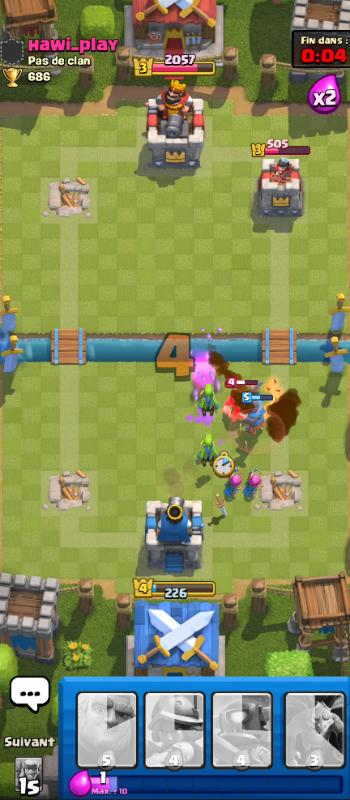archere: (244, 469, 264, 504), (225, 471, 243, 501)
chevalier: (239, 395, 275, 439)
gobelin: (194, 379, 220, 421), (196, 431, 222, 469)
